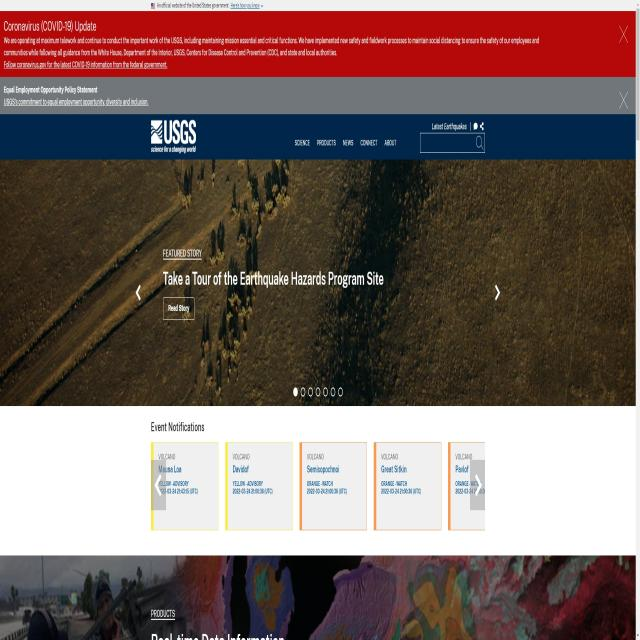menu-bar: (429, 120, 485, 128)
search: (418, 132, 486, 154)
tab-bar: (292, 129, 400, 154)
